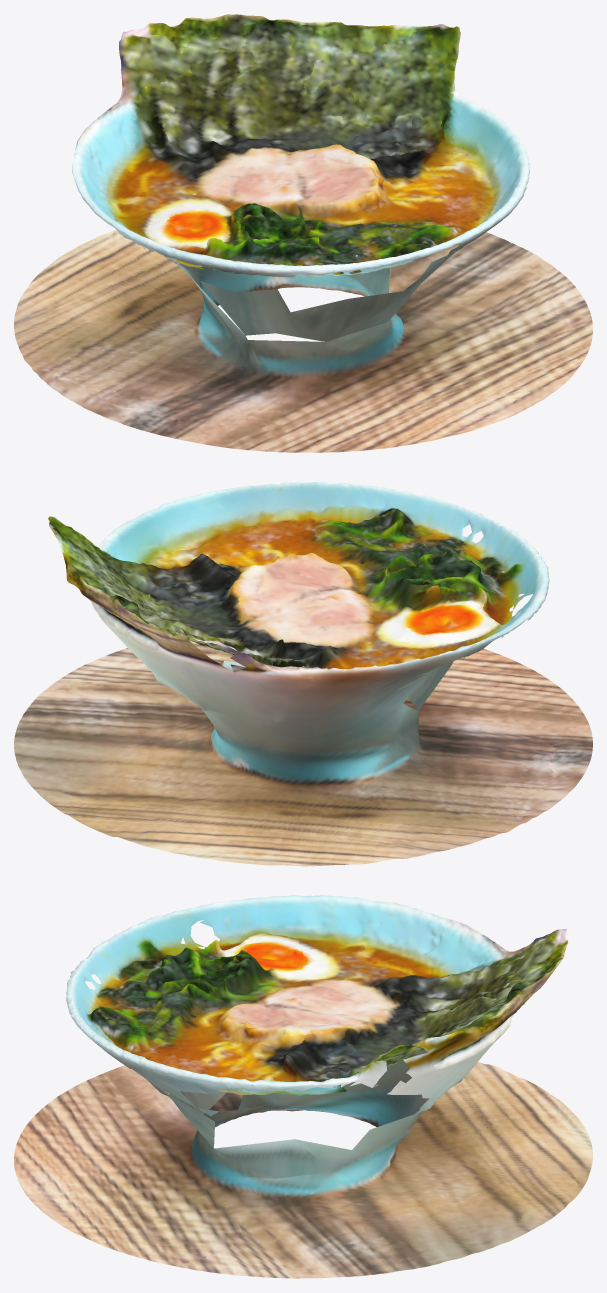
Rendered from ramen02.glb.
3 renders of one model, top to bottom at view 1: azimuth 30°, elevation 25°; view 2: azimuth 150°, elevation 25°; view 3: azimuth 270°, elevation 25°, orthographic.
Parts seen in each view (by area): view 1: Object_2, Object_3; view 2: Object_3, Object_2; view 3: Object_3, Object_2.
Part boxes in pixels (box(x1,y1,x2,y2)): Object_2: box(20, 14, 592, 443); Object_3: box(14, 32, 592, 452); Object_3: box(14, 482, 592, 866); Object_2: box(48, 481, 554, 860); Object_3: box(16, 906, 592, 1278); Object_2: box(14, 895, 574, 1275).
Size of the model in its own units: 0.2445 by 0.1016 by 0.2487.
Materials: 1 (1 with a texture image).
